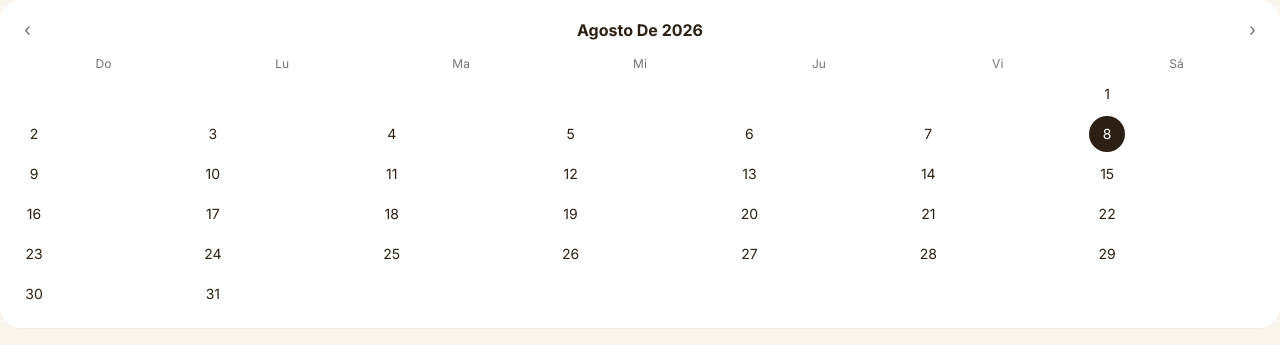
Test: MonthCalendar › navega al mes siguiente y anterior
Click the button named "Mes siguiente" at (1253, 30), box x1=1241 y1=16 x2=1264 y2=44
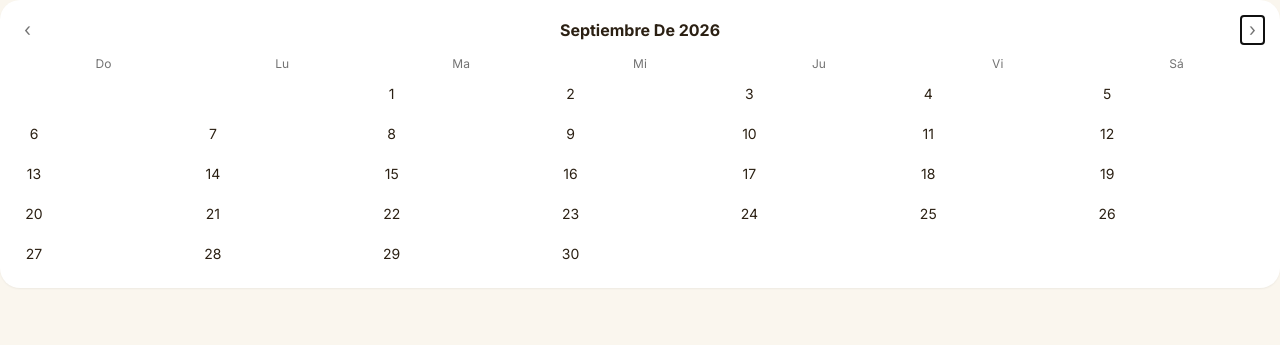
expect the text "septiembre de 2026" is shown: met, box x1=560 y1=18 x2=720 y2=42
Click the button named "Mes anterior" at (27, 30), box x1=16 y1=16 x2=39 y2=44
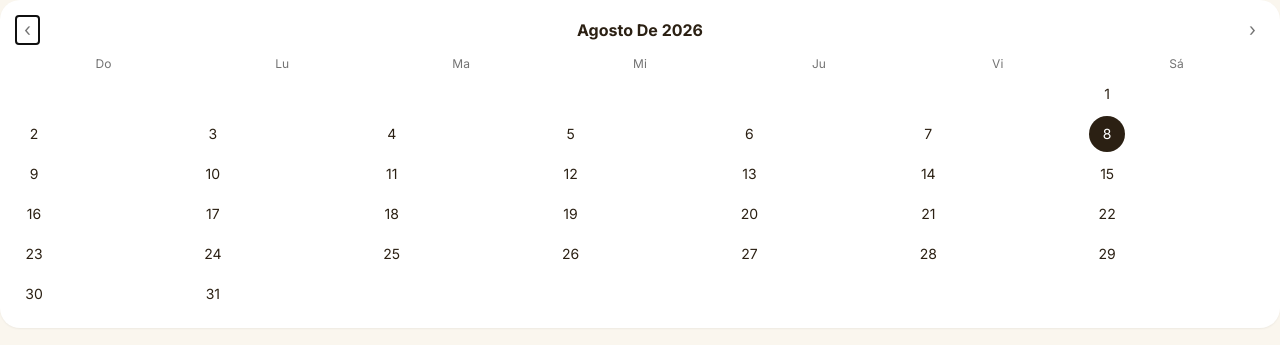
Click the button named "Mes anterior" at (27, 30), box x1=16 y1=16 x2=39 y2=44
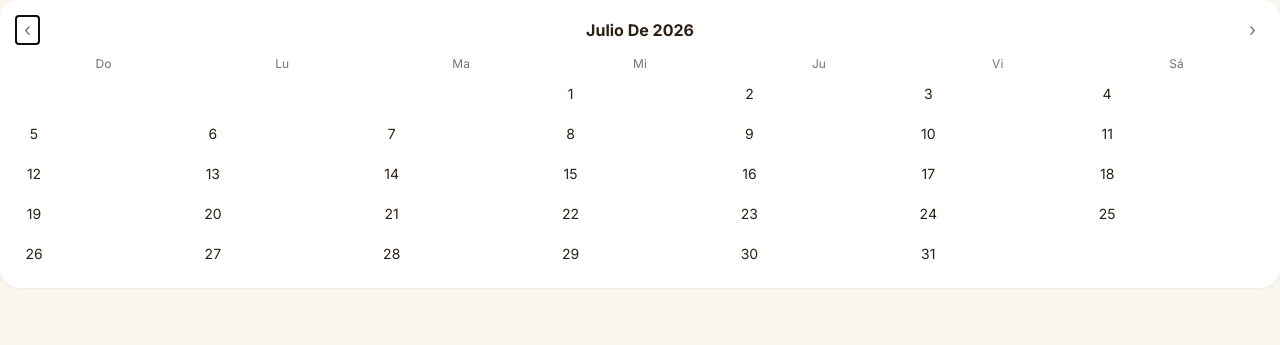
expect the text "julio de 2026" is shown: met, box x1=586 y1=18 x2=694 y2=42
